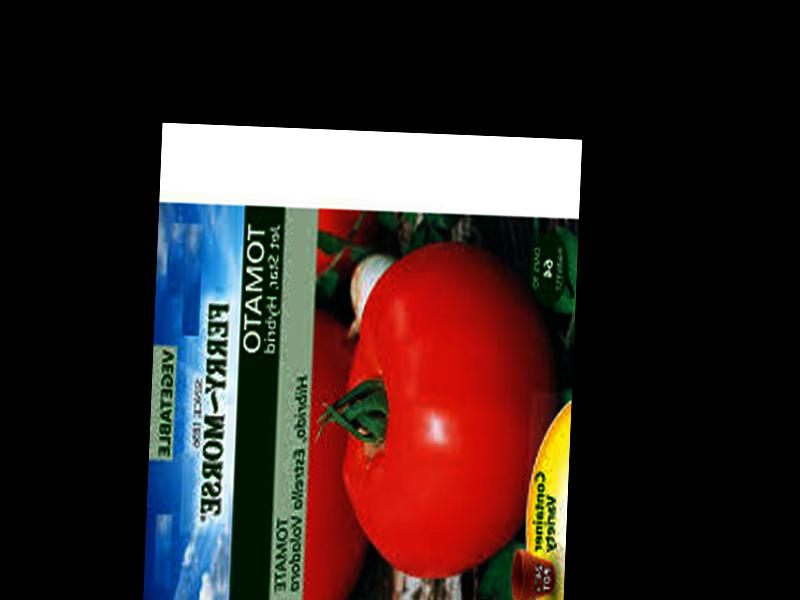Tomato: (338, 237, 563, 579)
